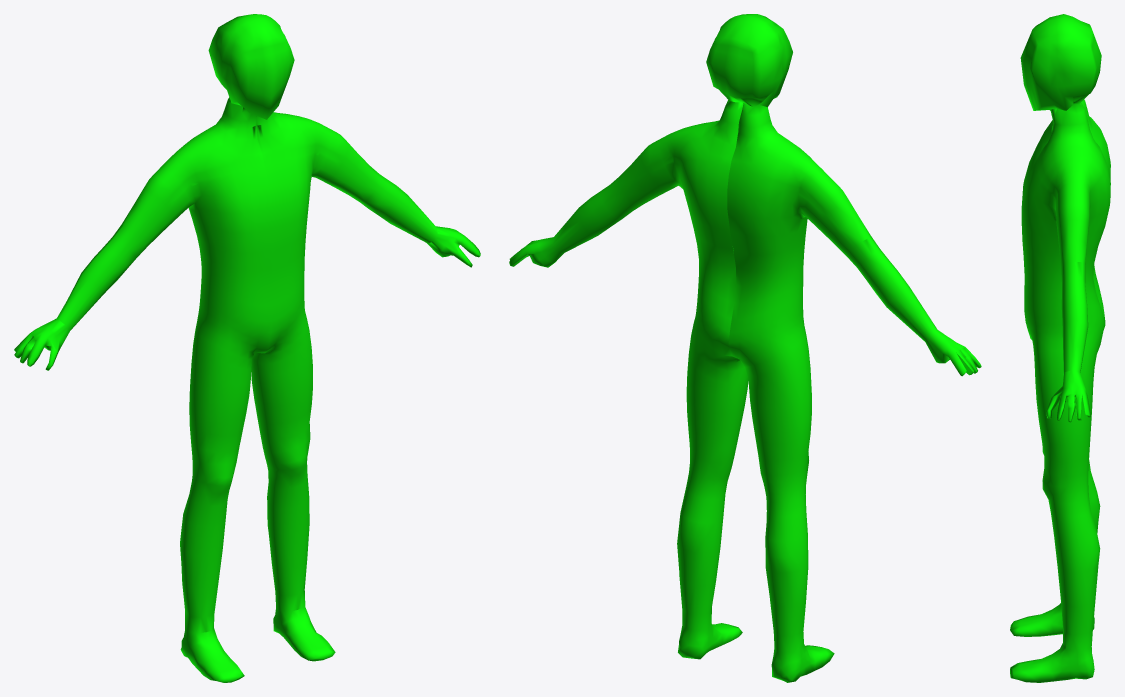
File: green_dummy.dae
The picture shows the model from 3 angles, left to right: view 1: azimuth 30°, elevation 25°; view 2: azimuth 150°, elevation 25°; view 3: azimuth 270°, elevation 25°; orthographic projection.
Parts seen in each view (by area): view 1: Cube; view 2: Cube; view 3: Cube.
Boxes of the visible parts, bbox=[...] form: Cube: bbox=[14, 14, 480, 682]; Cube: bbox=[509, 14, 981, 682]; Cube: bbox=[1010, 14, 1110, 682].
Size of the model in its own units: 1.51 by 0.2888 by 2.01.
